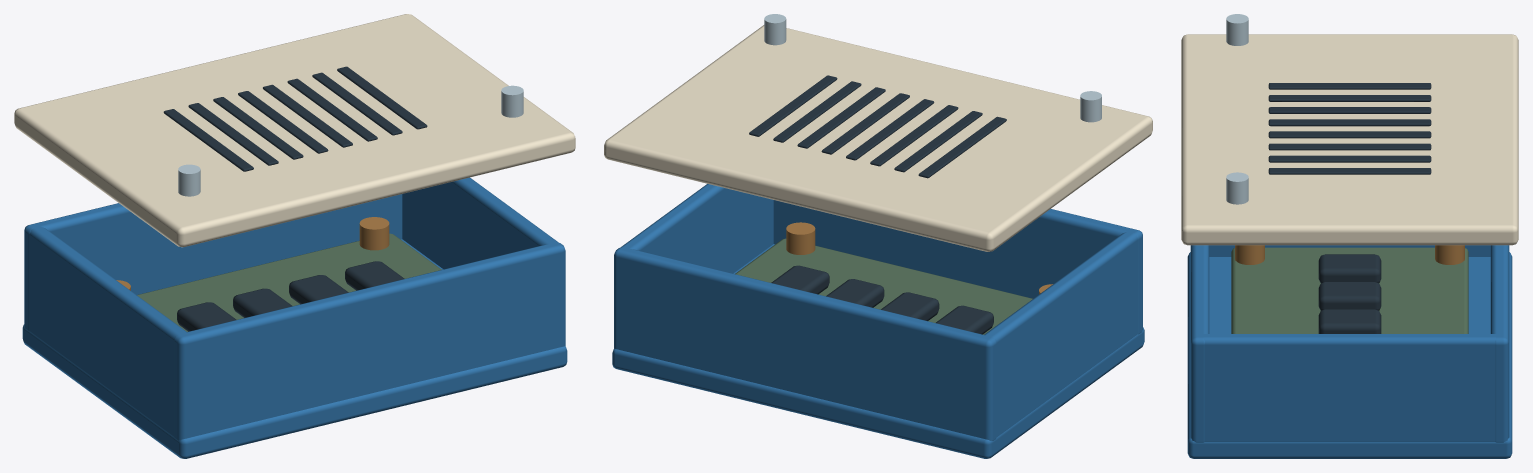
Rendered from enclosure.glb.
The picture shows the model from 3 angles, left to right: view 1: azimuth 30°, elevation 25°; view 2: azimuth 150°, elevation 25°; view 3: azimuth 270°, elevation 25°; orthographic projection. The views are drawn at different scales.
Parts seen in each view (by area): view 1: enclosure; view 2: enclosure; view 3: enclosure.
Boxes of the visible parts, bbox=[...] form: enclosure: bbox=[14, 14, 575, 458]; enclosure: bbox=[604, 14, 1152, 458]; enclosure: bbox=[1181, 14, 1518, 458].
Bounding box in the file's own units: 3.7 × 2.37 × 2.7.
